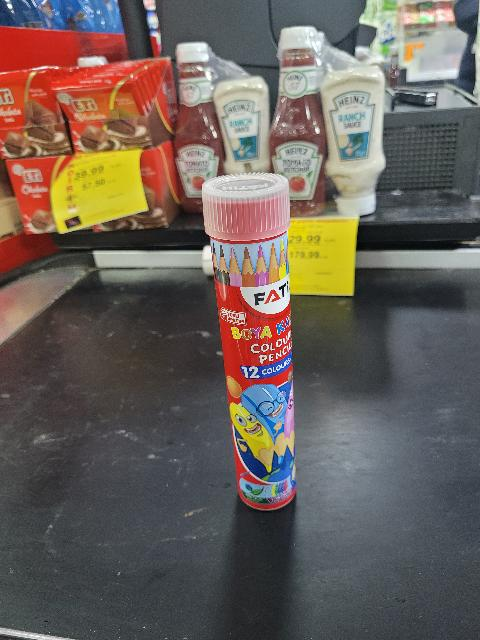Metal: (205, 233, 306, 511)
Plastik: (194, 171, 300, 242)
